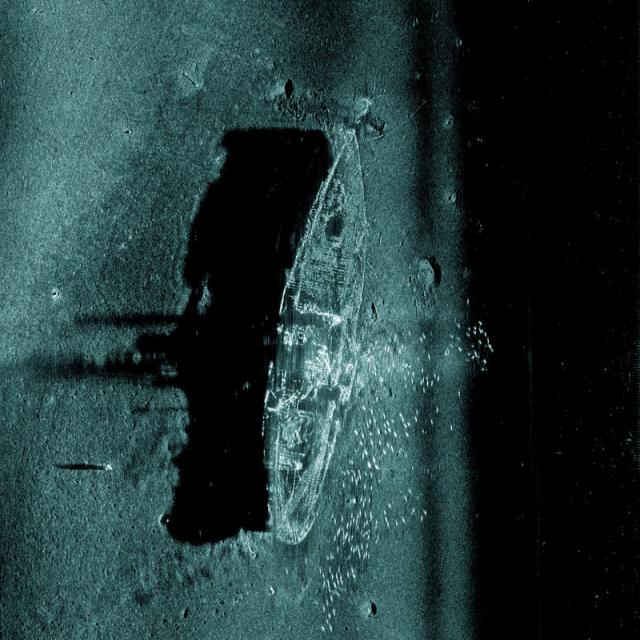ship: (254, 121, 378, 548)
